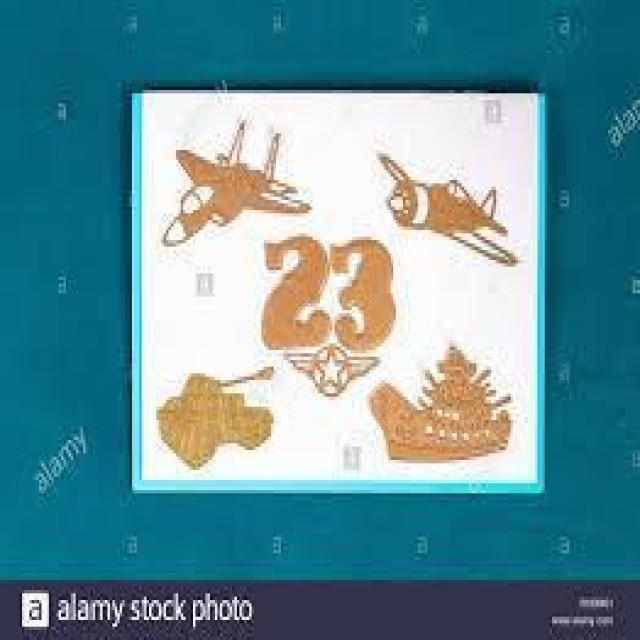Tanks: (160, 364, 285, 464)
